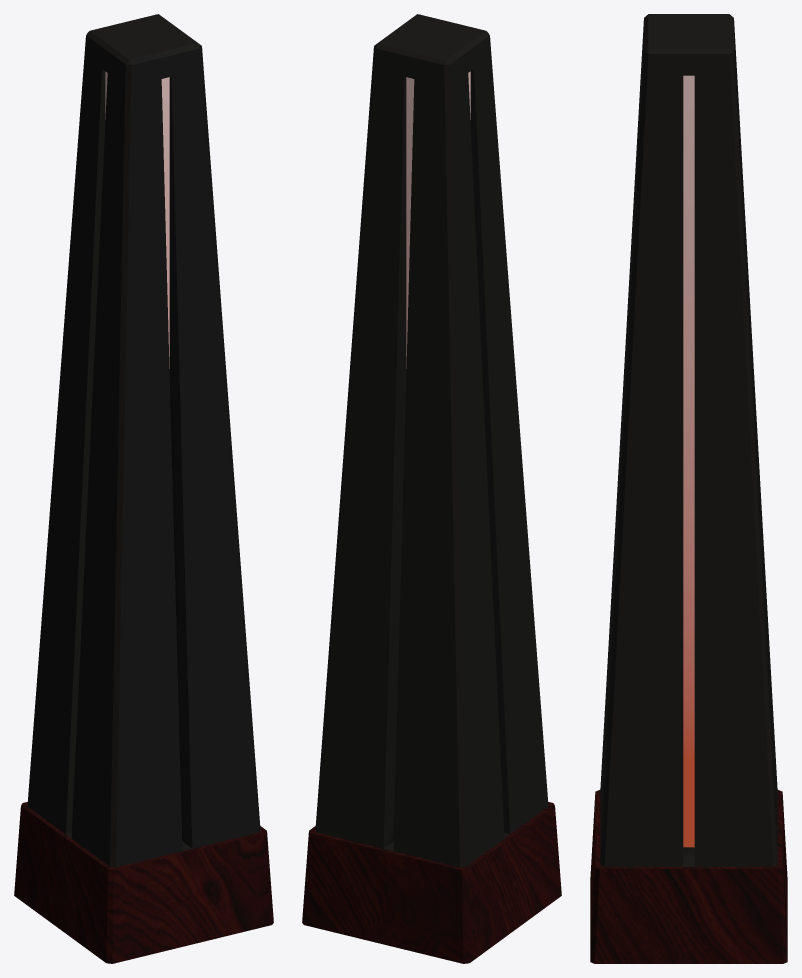
Rendered from standing light 1.fbx.
The picture shows the model from 3 angles, left to right: view 1: azimuth 30°, elevation 25°; view 2: azimuth 150°, elevation 25°; view 3: azimuth 270°, elevation 25°; orthographic projection. The views are drawn at different scales.
Visible parts, largest first — view 1: standing light 1, standing light emission 1; view 2: standing light 1, standing light emission 1; view 3: standing light 1, standing light emission 1.
Boxes of the visible parts, left/top/right/bottom form: standing light 1: left=14, top=14, right=273, bottom=963; standing light emission 1: left=105, top=71, right=169, bottom=368; standing light 1: left=302, top=14, right=561, bottom=963; standing light emission 1: left=406, top=71, right=470, bottom=368; standing light 1: left=590, top=14, right=787, bottom=963; standing light emission 1: left=683, top=75, right=694, bottom=847.
Size of the model in its own units: 0.2 by 0.2 by 0.9951.
